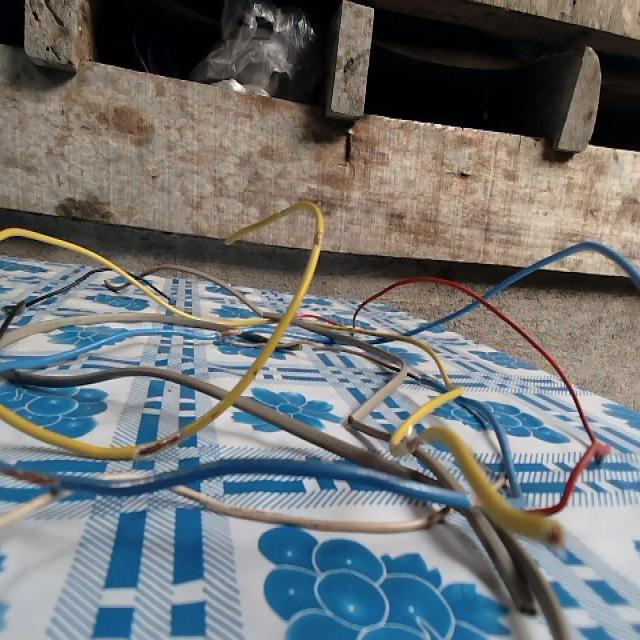-: (1, 459, 59, 492), (134, 431, 184, 460), (543, 517, 565, 547), (402, 427, 423, 456), (216, 324, 240, 340), (313, 229, 323, 251)
